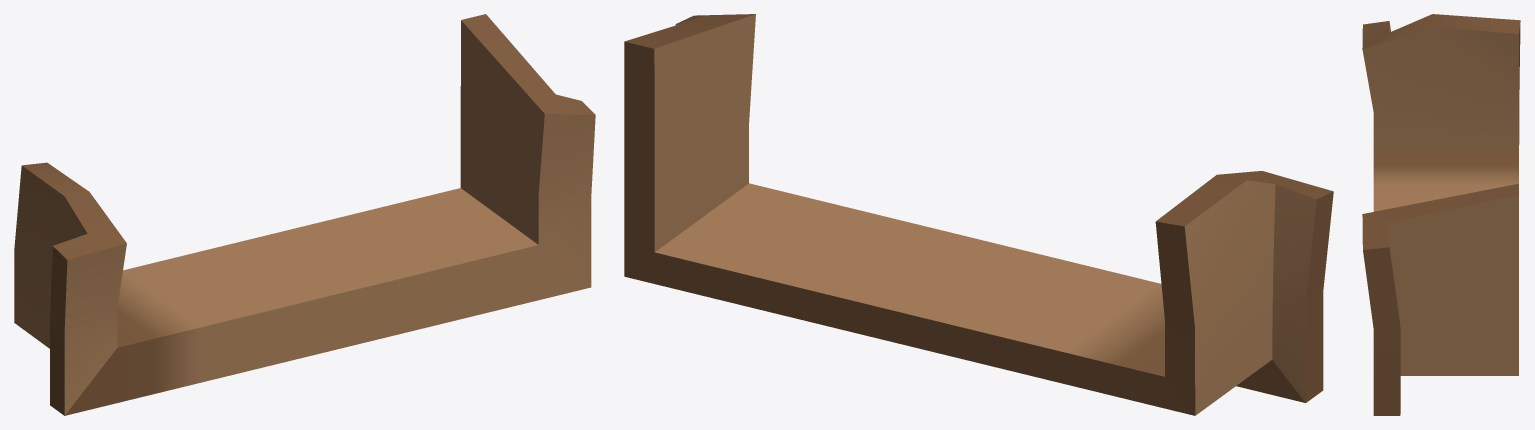
Rendered from DBK_WinSmall_Trim_A_Tile.fbx.
3 renders of one model, left to right at view 1: azimuth 30°, elevation 25°; view 2: azimuth 150°, elevation 25°; view 3: azimuth 270°, elevation 25°, orthographic. The views are drawn at different scales.
Visible parts, largest first — view 1: DBK_WinSmall_Trim_A_Tile; view 2: DBK_WinSmall_Trim_A_Tile; view 3: DBK_WinSmall_Trim_A_Tile.
Part boxes in pixels (bbox=[...]): DBK_WinSmall_Trim_A_Tile: bbox=[14, 14, 595, 415]; DBK_WinSmall_Trim_A_Tile: bbox=[624, 14, 1333, 415]; DBK_WinSmall_Trim_A_Tile: bbox=[1362, 14, 1520, 415].
Bounding box in the file's own units: 74.28 × 29.88 × 20.54.
